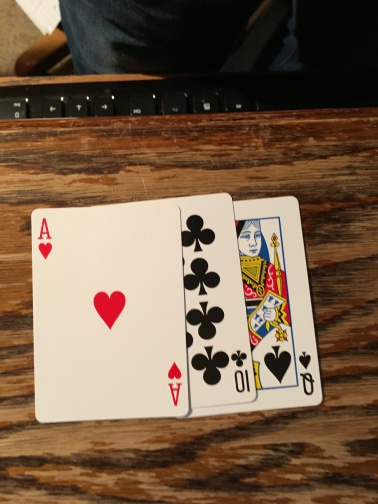ace: (30, 202, 190, 417)
queen: (247, 197, 323, 407)
ten: (180, 194, 249, 415)
